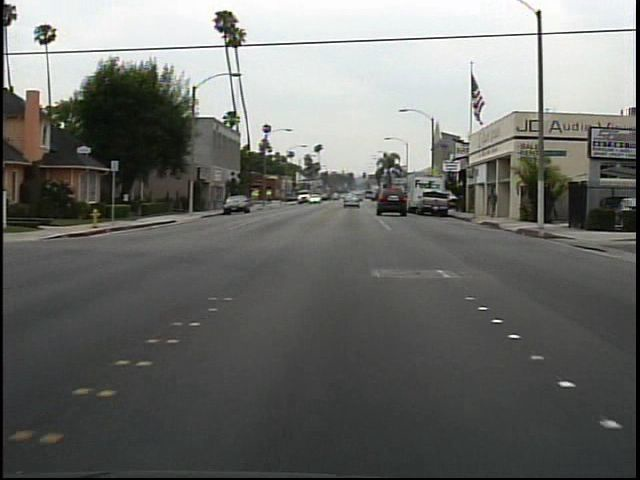person: (483, 186, 503, 221)
